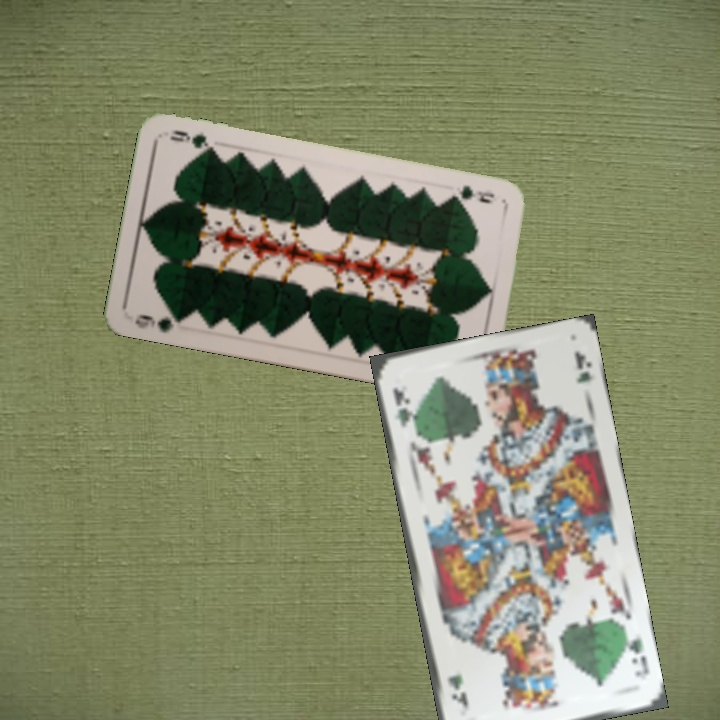G9: (131, 309, 188, 336), (446, 181, 497, 206)
GK: (388, 383, 418, 433), (620, 633, 651, 680)
